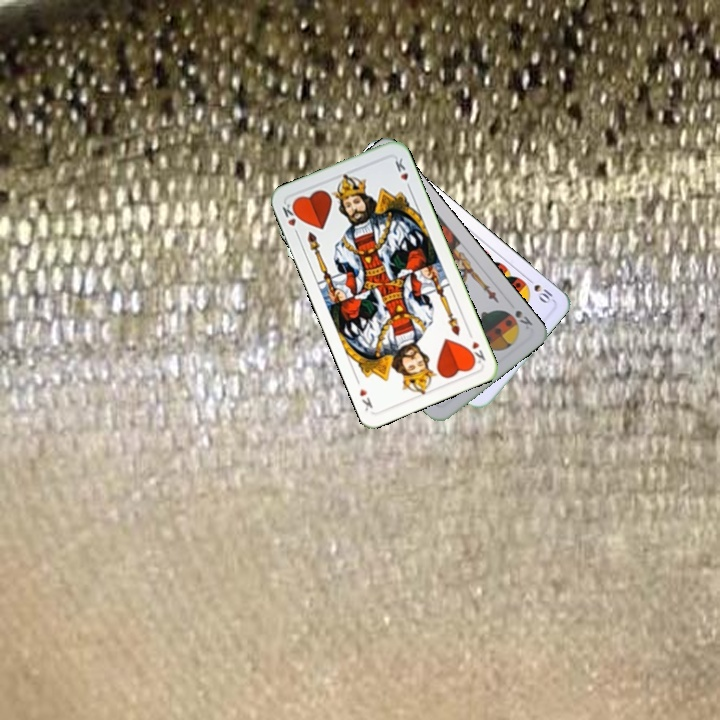HK: (464, 327, 488, 368), (278, 198, 302, 239)
S10: (520, 273, 557, 307)
SK: (511, 306, 535, 332)
